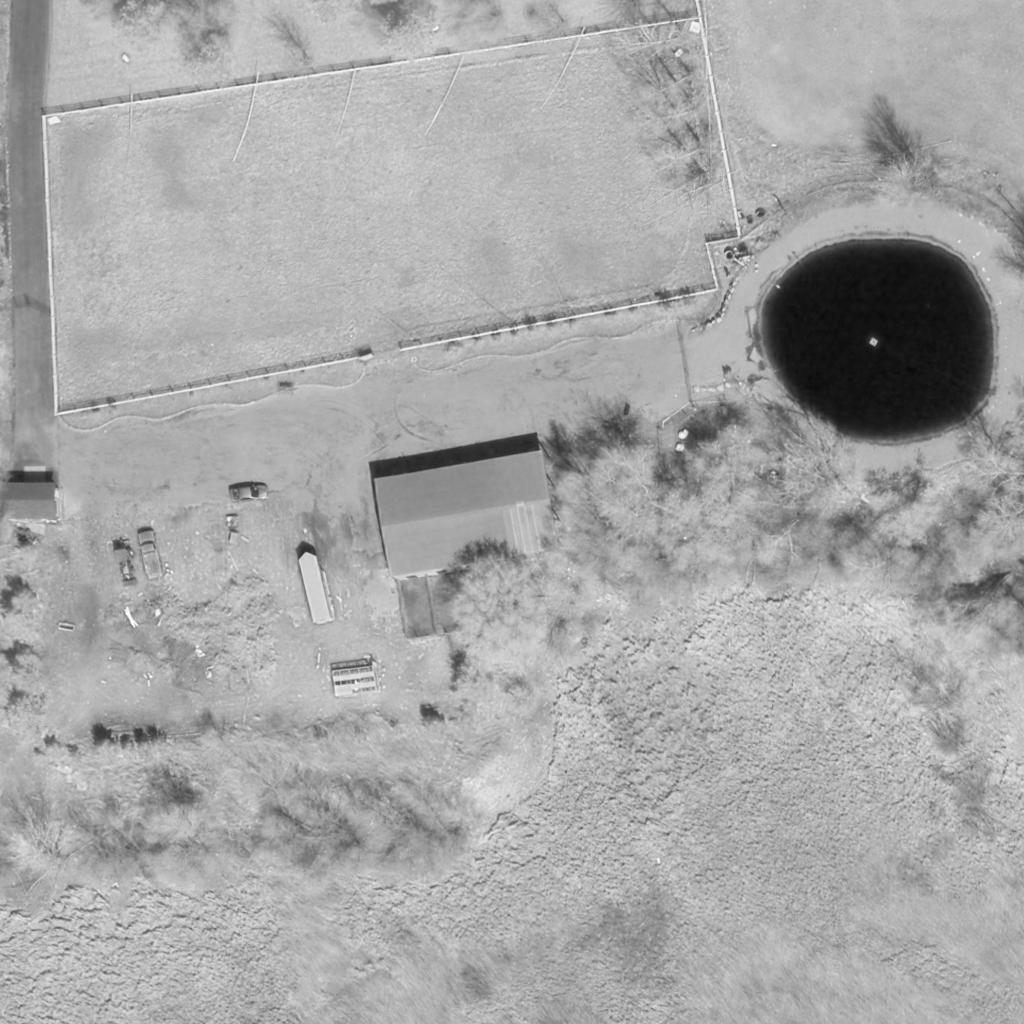vehicle: (138, 530, 164, 580), (225, 483, 273, 505), (112, 549, 142, 579)
